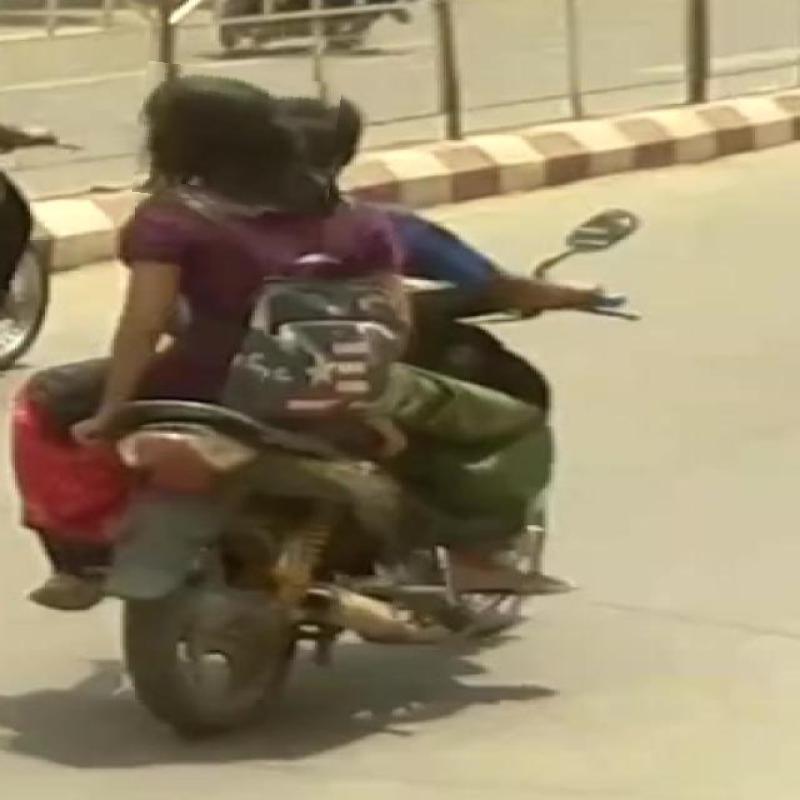nohelmet: (136, 66, 339, 209)
